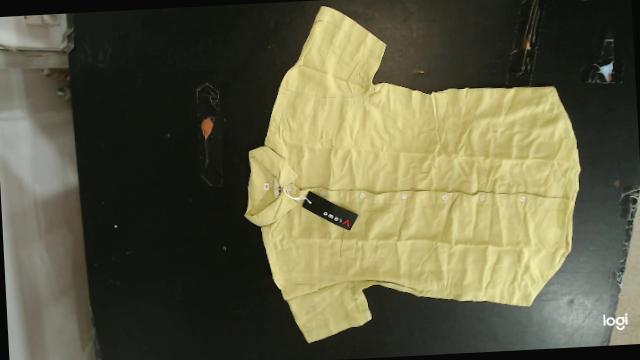new-garment: (245, 6, 579, 341)
